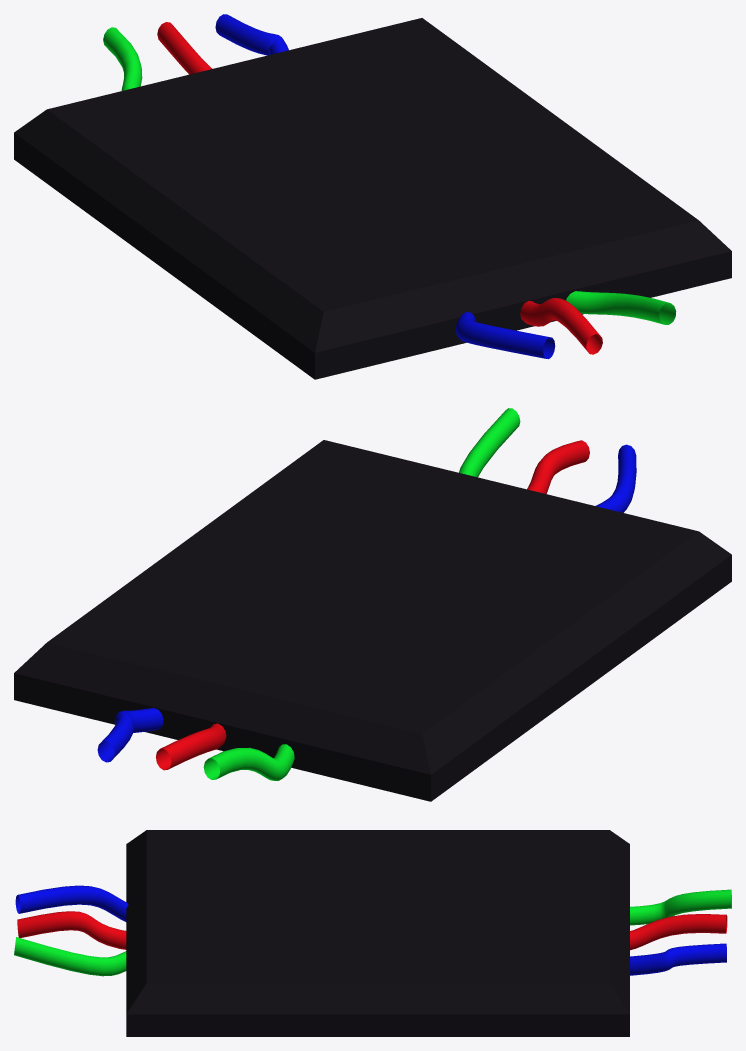
Rendered from slot0.fbx.
3 views of the same model, one above another, from view 1: azimuth 30°, elevation 25°; view 2: azimuth 150°, elevation 25°; view 3: azimuth 270°, elevation 25° (orthographic). The views are drawn at different scales.
Parts seen in each view (by area): view 1: Cube, BezierCurve, BezierCurve.001, BezierCurve.002, BezierCurve.004, BezierCurve.003, BezierCurve.005; view 2: Cube, BezierCurve.003, BezierCurve.004, BezierCurve.005, BezierCurve, BezierCurve.002, BezierCurve.001; view 3: Cube, BezierCurve.001, BezierCurve, BezierCurve.002, BezierCurve.003, BezierCurve.005, BezierCurve.004.
Boxes of the visible parts, x1,y1,x2,y2 form: Cube: [14, 18, 731, 379]; BezierCurve: [566, 291, 676, 324]; BezierCurve.001: [455, 312, 555, 359]; BezierCurve.002: [520, 298, 602, 354]; BezierCurve.004: [215, 14, 288, 55]; BezierCurve.003: [103, 27, 142, 90]; BezierCurve.005: [157, 22, 212, 74]; Cube: [14, 440, 731, 801]; BezierCurve.003: [203, 744, 294, 780]; BezierCurve.004: [97, 708, 163, 762]; BezierCurve.005: [156, 723, 226, 770]; BezierCurve: [459, 408, 520, 477]; BezierCurve.002: [527, 440, 589, 493]; BezierCurve.001: [596, 444, 636, 512]; Cube: [126, 830, 629, 1036]; BezierCurve.001: [15, 885, 128, 921]; BezierCurve: [14, 937, 126, 976]; BezierCurve.002: [17, 911, 126, 949]; BezierCurve.003: [630, 889, 731, 925]; BezierCurve.005: [630, 914, 727, 950]; BezierCurve.004: [630, 943, 726, 975].
Bounding box in the file's own units: 4.05 × 0.5404 × 7.22.
